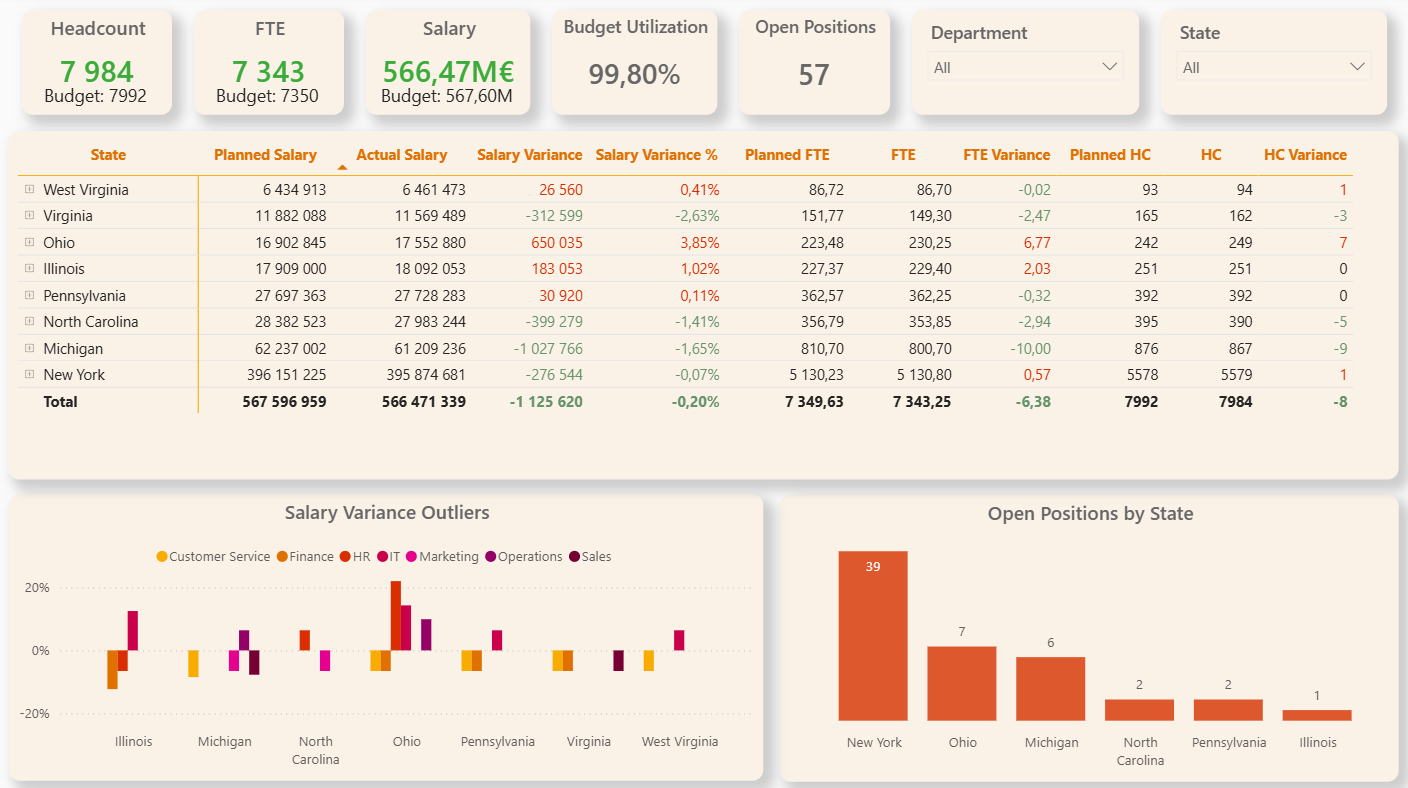

The dashboard page shown, as its layout file describes it:
{"tool":"powerbi","page":{"name":"HR Controlling","canvas":[1280,720],"ordinal":1},"visuals":[{"type":"kpi","title":"Headcount","fields":{"Indicator":["_measures.HC"],"TrendLine":["dim_date.Year"],"Goal":["Sum(fact_budget_2024.Planned_HC)"]},"box":[22.8,12.5,136,95.1],"z":0},{"type":"kpi","title":"FTE","fields":{"TrendLine":["dim_date.Year"],"Goal":["Sum(fact_budget_2024.Planned_FTE)"],"Indicator":["_measures.Current FTE"]},"box":[178.6,12.5,135.8,95.1],"z":2000},{"type":"kpi","title":"Salary","fields":{"TrendLine":["dim_date.Year"],"Indicator":["_measures.Total Salary"],"Goal":["Sum(fact_budget_2024.Planned_Salary)"]},"box":[334.2,12.5,149.4,95.1],"z":3000},{"type":"cardVisual","title":"Open Positions","fields":{"Data":["Sum(fact_open_positions_2024.Open_Positions)"]},"box":[673.1,12.5,136.9,95.1],"z":4000},{"type":"clusteredColumnChart","title":"Open Positions by State","fields":{"Y":["Sum(fact_open_positions_2024.Open_Positions)"],"Category":["dim_location.State"]},"box":[710.3,452.1,561.4,260],"z":5000},{"type":"clusteredColumnChart","title":"Salary Variance Outliers","fields":{"Category":["dim_location.State"],"Y":["_measures.Salary Variance %"],"Series":["dim_department.Department"]},"box":[10.4,451.4,683.6,260],"z":6000},{"type":"slicer","fields":{"Values":["dim_department.Department"]},"box":[829.7,12.5,205.8,95.1],"z":7000},{"type":"slicer","fields":{"Values":["dim_location.State"]},"box":[1055.3,12.5,204.8,95.1],"z":8000},{"type":"cardVisual","title":"Budget Utilization","fields":{"Data":["_measures.Budget Utilization %"]},"box":[503.3,12.5,150,95.1],"z":9000},{"type":"pivotTable","fields":{"Rows":["dim_location.State","dim_department.Department"],"Values":["Sum(fact_budget_2024.Planned_Salary)","_measures.Actual Salary 2024","_measures.Salary Variance","_measures.Salary Variance %","Sum(fact_budget_2024.Planned_FTE)","Sum(dim_stg_employees.FTE)","_measures.FTE Variance","Sum(fact_budget_2024.Planned_HC)","_measures.HC","_measures.HC Variance"]},"box":[10.1,122,1261.2,315.6],"z":9500}]}

Visuals, with their boxes in screenshot pixels (x1, y1, x2, y2), scaled from the page's 1280x720 canvas onto the 1408x788 screenshot:
"Headcount" kpi: <region>25, 14, 175, 118</region>
"FTE" kpi: <region>196, 14, 346, 118</region>
"Salary" kpi: <region>368, 14, 532, 118</region>
"Open Positions" cardVisual: <region>740, 14, 891, 118</region>
"Open Positions by State" clusteredColumnChart: <region>781, 495, 1399, 779</region>
"Salary Variance Outliers" clusteredColumnChart: <region>11, 494, 763, 779</region>
slicer - dim_department.Department: <region>913, 14, 1139, 118</region>
slicer - dim_location.State: <region>1161, 14, 1386, 118</region>
"Budget Utilization" cardVisual: <region>554, 14, 719, 118</region>
pivotTable - dim_location.State x dim_department.Department: <region>11, 134, 1398, 479</region>
